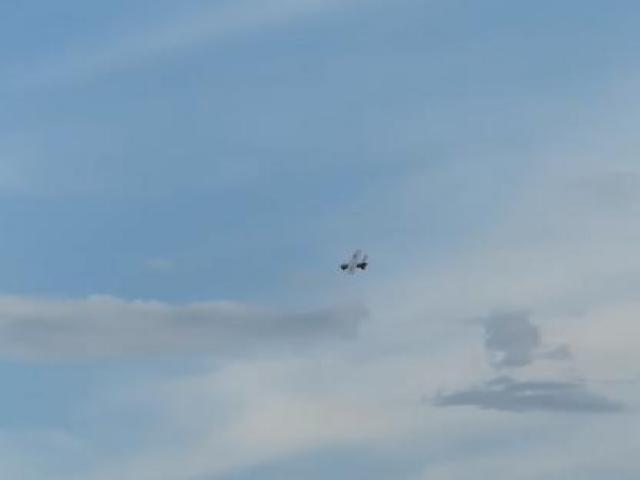uav: (334, 246, 375, 282)
